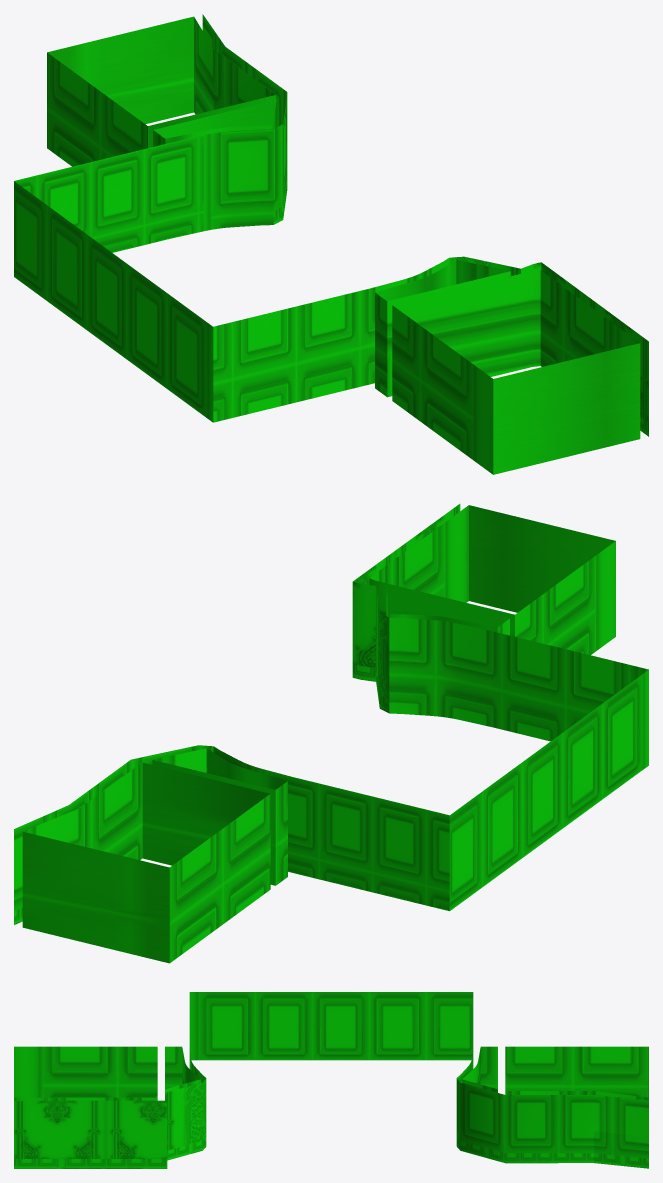
3 renders of one model, top to bottom at view 1: azimuth 30°, elevation 25°; view 2: azimuth 150°, elevation 25°; view 3: azimuth 270°, elevation 25°, orthographic. The views are drawn at different scales.
Visible parts, largest first — view 1: 2_wall; view 2: 2_wall; view 3: 2_wall.
Boxes of the visible parts, <box> form: 2_wall: <box>14,14,648,474</box>; 2_wall: <box>14,504,648,963</box>; 2_wall: <box>14,992,648,1168</box>.
Size of the model in its own units: 666 by 196 by 1647.
